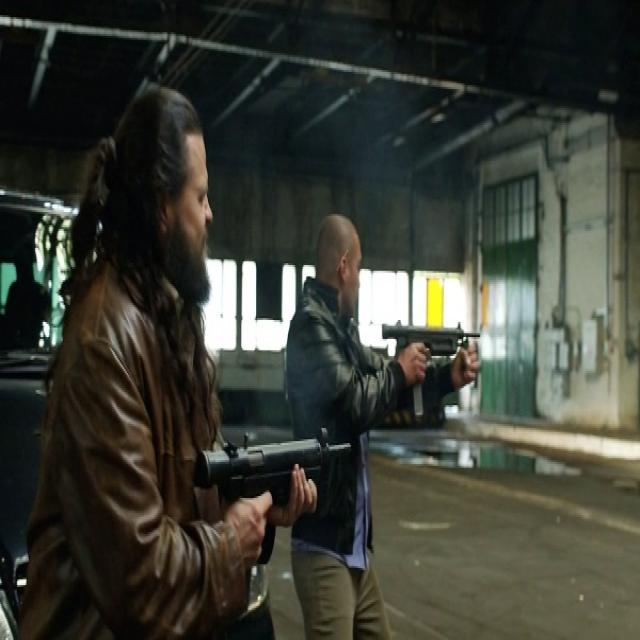rifle: (189, 429, 359, 510), (380, 321, 485, 417)
